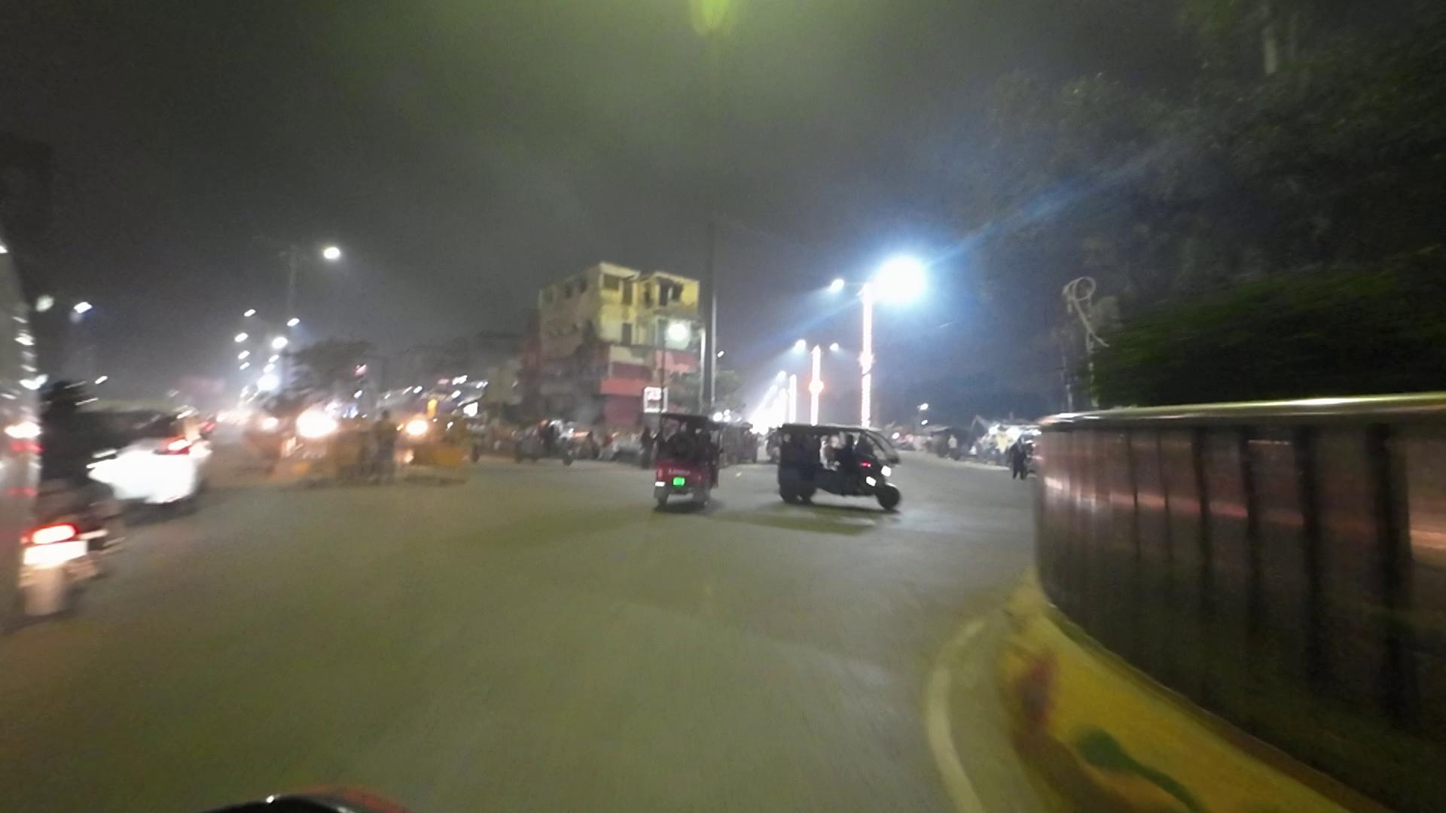streetlight: (249, 227, 292, 250)
